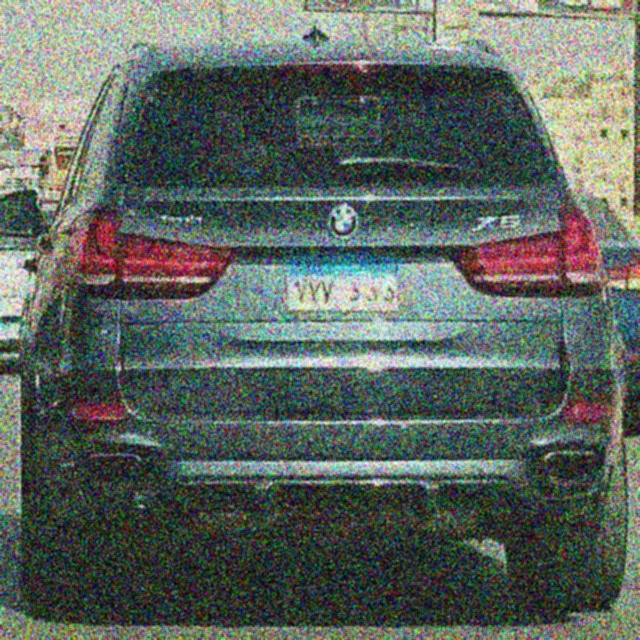License Plate: (284, 245, 401, 316)
